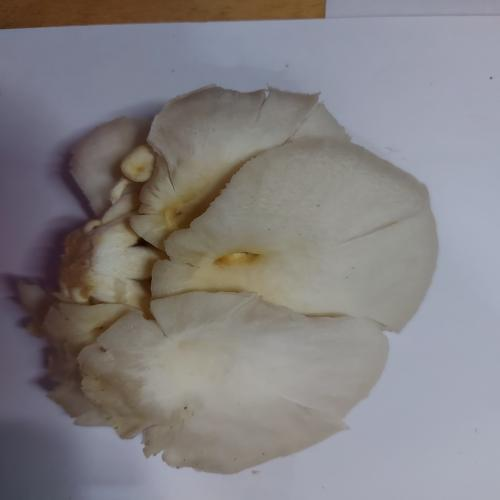Oyster Mushroom: (24, 84, 440, 475)
